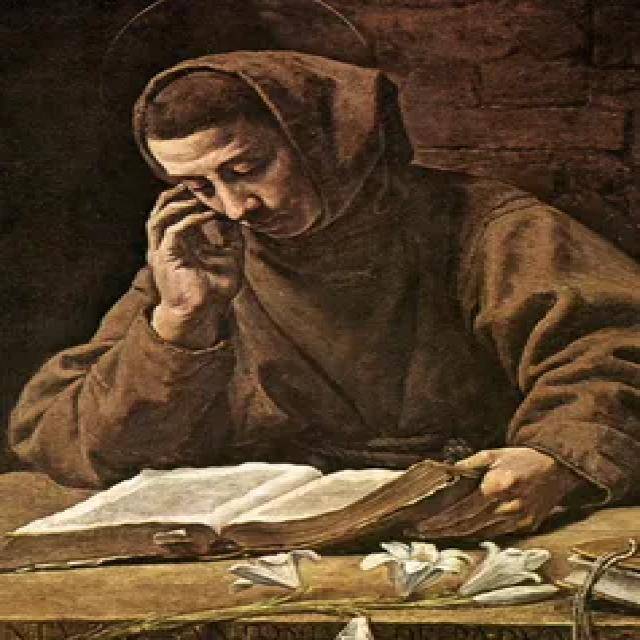book: (0, 440, 506, 576)
